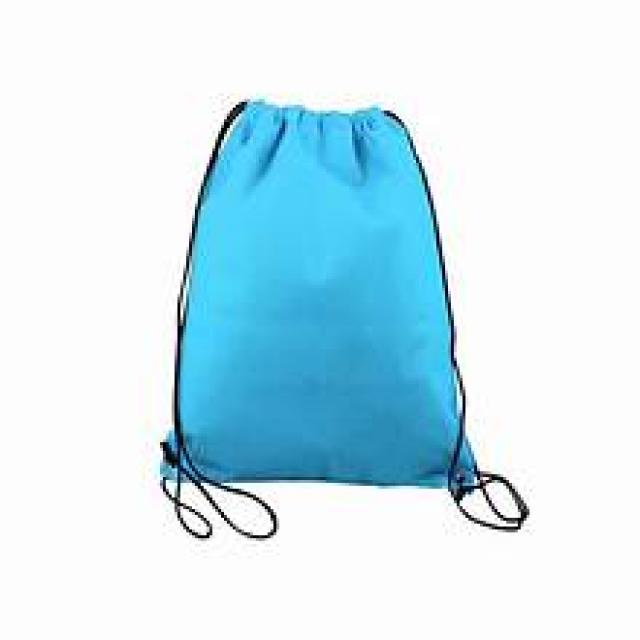backpack: (158, 97, 531, 539)
